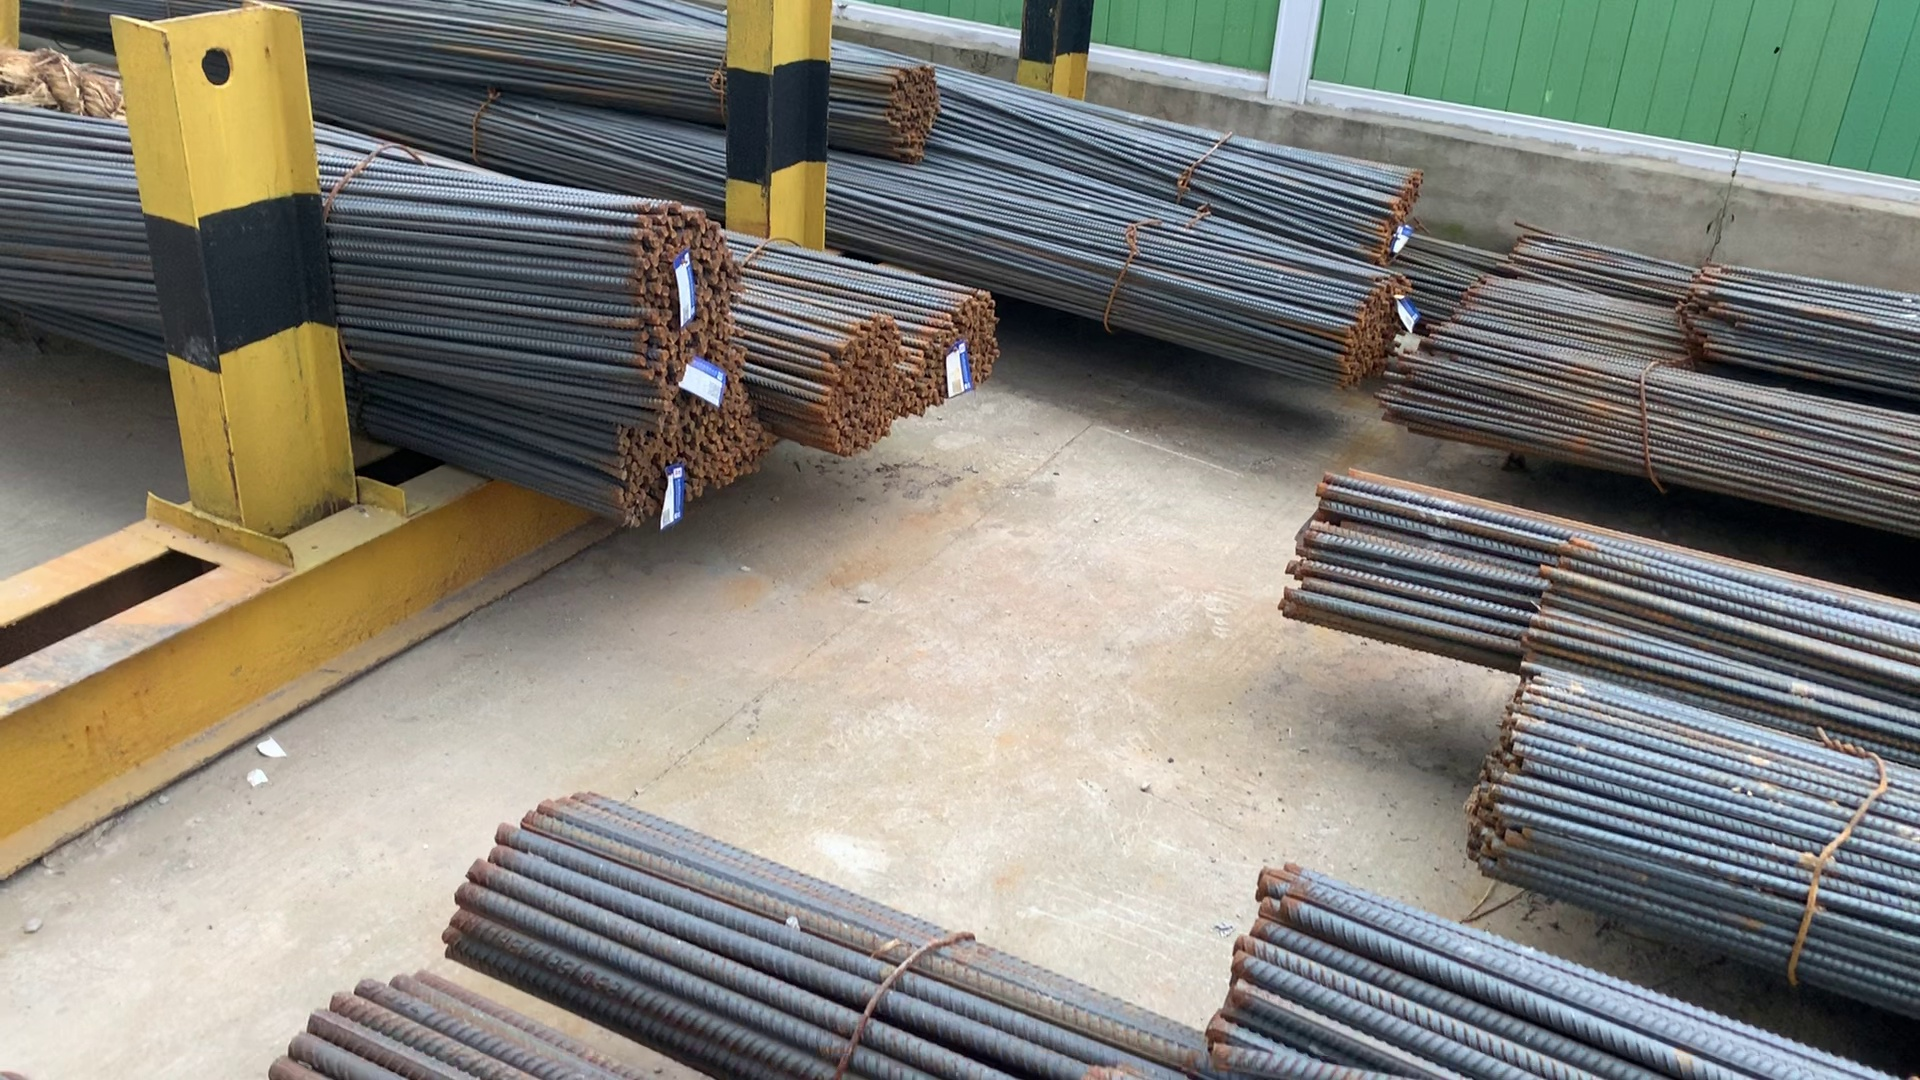rebar: (616, 386, 781, 520), (622, 214, 745, 360), (1319, 273, 1419, 384), (829, 318, 895, 462), (919, 287, 996, 400), (887, 65, 945, 165), (1375, 166, 1422, 264)
